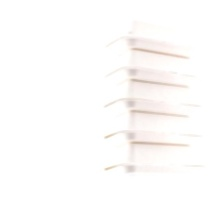foam_box: (96, 140, 212, 185), (97, 76, 208, 121), (100, 108, 211, 151), (101, 45, 204, 90), (99, 17, 204, 61)
